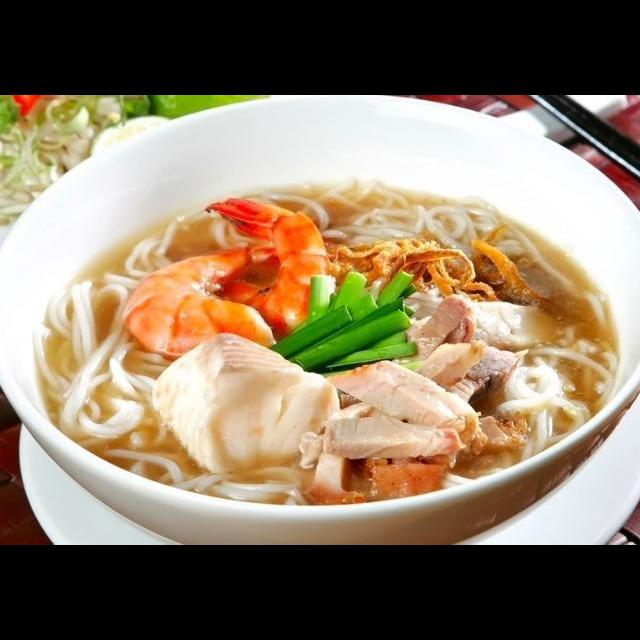bun: (24, 209, 209, 503), (261, 167, 579, 289), (491, 323, 623, 472)
ca: (144, 326, 348, 480)
thit heo quay: (322, 354, 488, 455), (358, 339, 490, 433), (374, 289, 479, 388), (316, 409, 469, 473)
tom: (117, 237, 316, 360), (186, 187, 336, 342)
